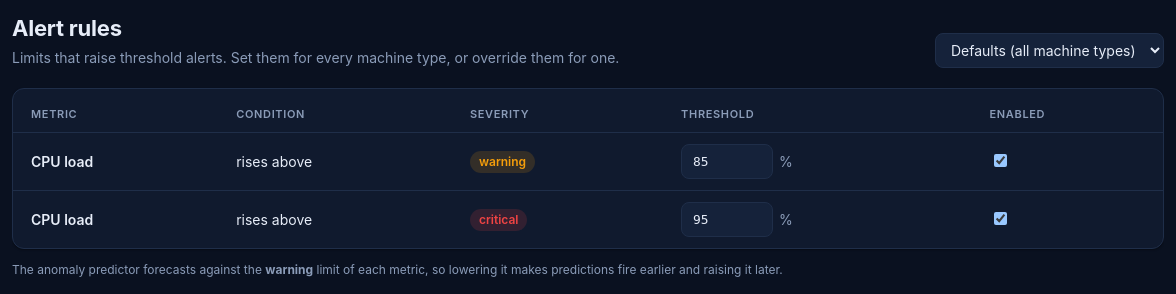
Test: alert rules screen › ignores a non-numeric entry
Replace the text in the field named "CPU load warning threshold" with "abc" at (727,161), box [681,144,773,179]
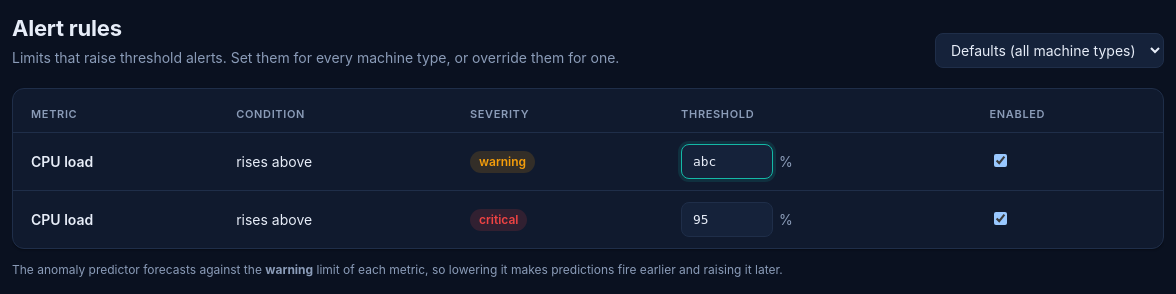
Press Tab
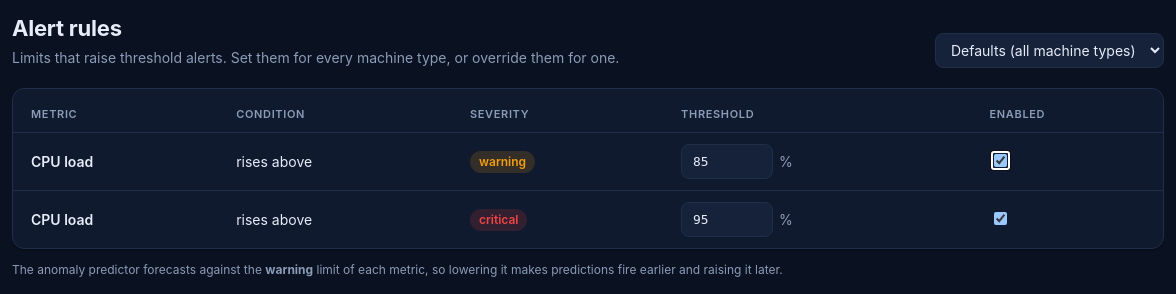
Expected: the field named "CPU load warning threshold" holds "85", [681,144,773,179]
